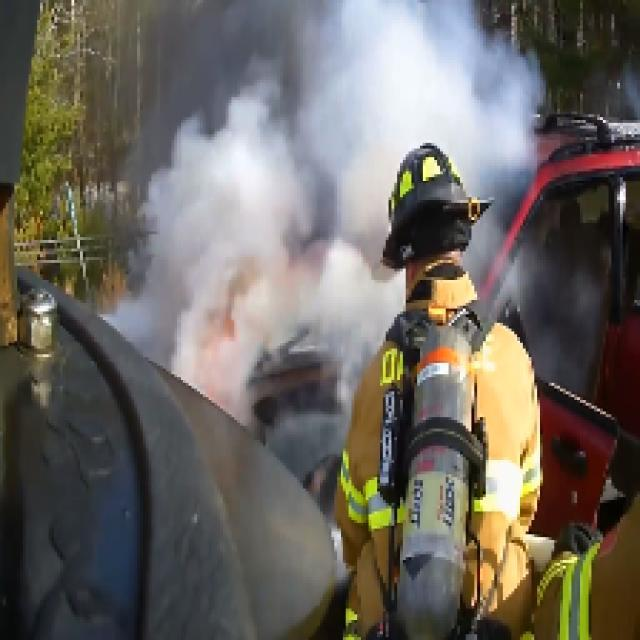Smoke: (332, 18, 508, 266), (165, 135, 318, 366)
